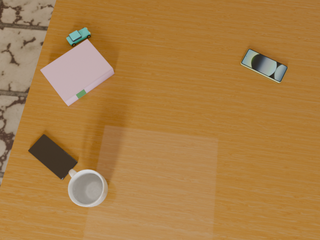book: (40, 39, 114, 106)
cup: (68, 169, 108, 207)
phone: (28, 134, 77, 180), (241, 49, 288, 83)
toy_car: (67, 28, 91, 46)
